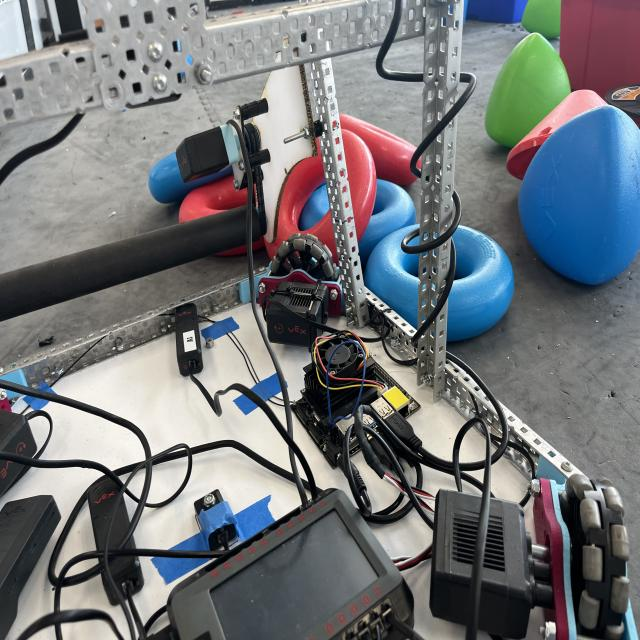Blue-Ring: (365, 220, 517, 342), (301, 179, 416, 259), (146, 153, 232, 204)
Red-Ring: (267, 133, 376, 264), (340, 113, 416, 185), (179, 175, 248, 223), (190, 202, 191, 203)
